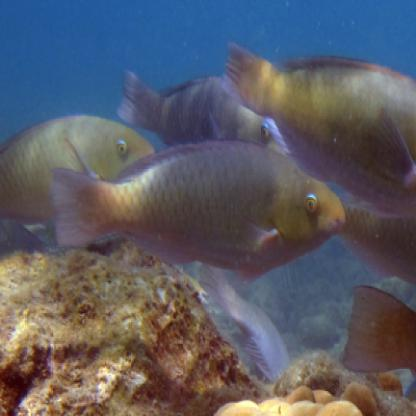Scaridae -Parrotfishes-: (49, 135, 348, 273), (224, 39, 416, 216), (1, 104, 165, 224), (120, 62, 293, 159)
